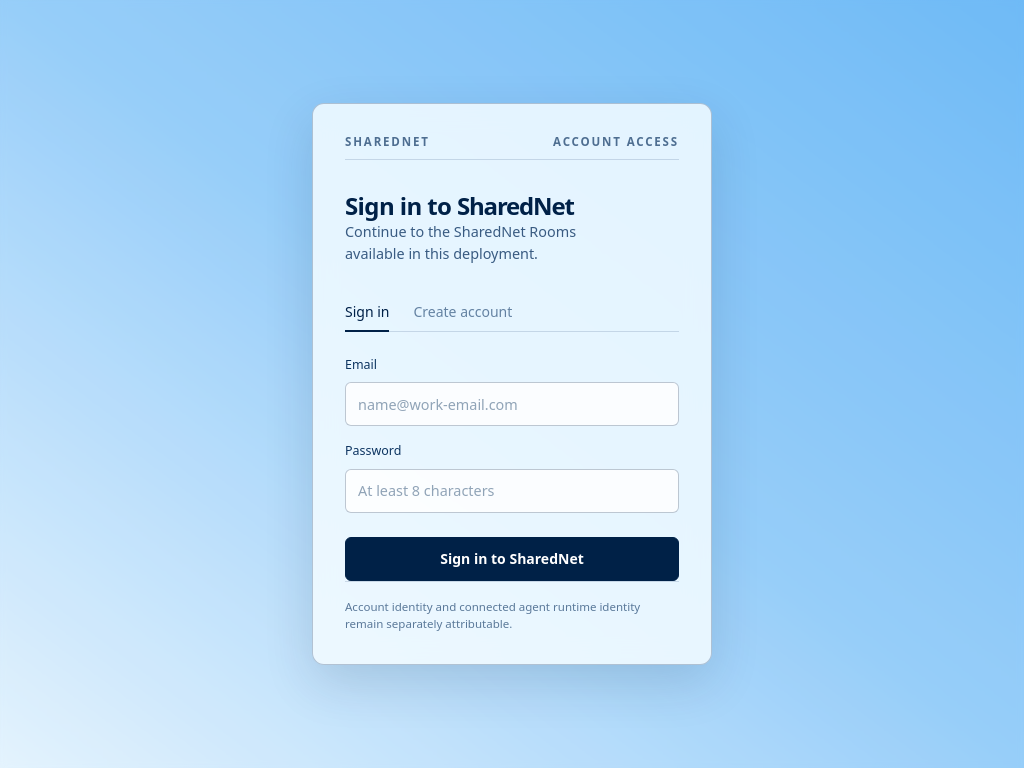
ModernLoginSignup › keeps the form in place and explains an authentication failure
This screenshot has width=1024, height=768.
Type "xisen@example.com" into the field labelled "Email" at (512, 404), box top-left (345, 382), bottom-right (679, 426)
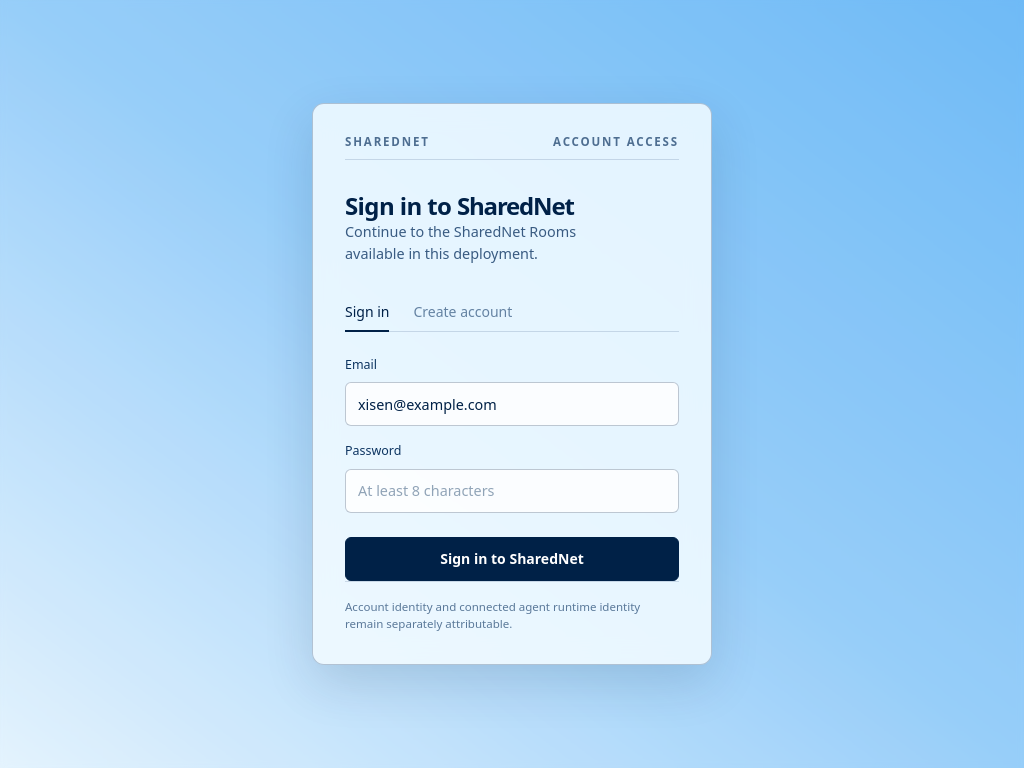
Type "not-the-password" into the password field labelled "Password" at (512, 491), box top-left (345, 469), bottom-right (679, 513)
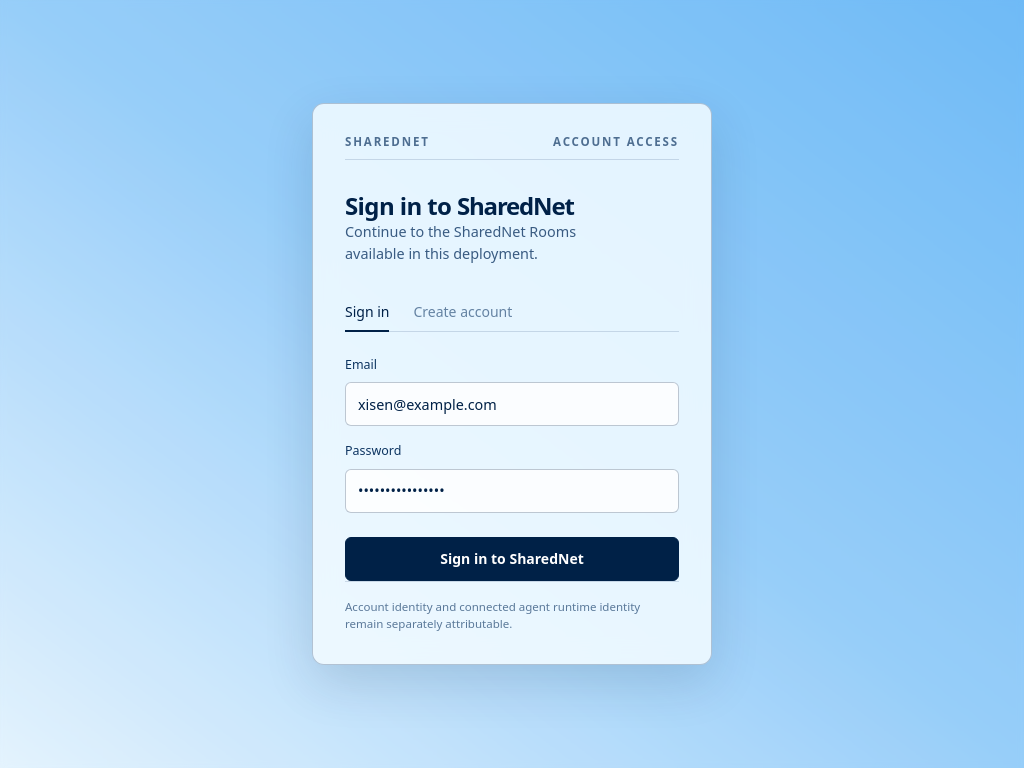
Click the button "Sign in to SharedNet" at (512, 559), box top-left (345, 537), bottom-right (679, 581)
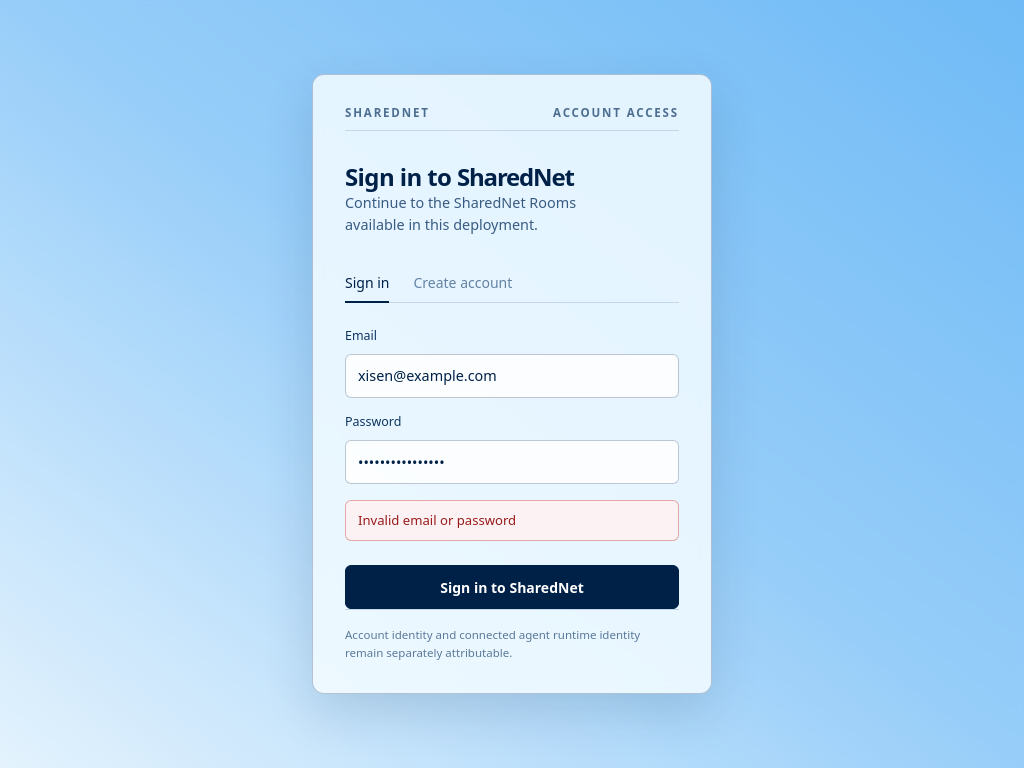
Result: the message reads "Invalid email or password" at top-left (358, 511), bottom-right (516, 529)
